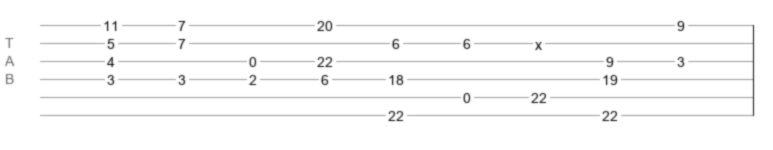0: (249, 54, 257, 64), (463, 90, 471, 100)
11: (103, 18, 119, 28)
18: (388, 72, 404, 82)
19: (602, 72, 618, 82)
2: (249, 72, 257, 82)
20: (317, 18, 333, 28)
22: (317, 54, 333, 64), (388, 108, 404, 118), (531, 90, 547, 100), (602, 108, 618, 118)
3: (107, 72, 115, 82), (178, 72, 186, 82), (677, 54, 685, 64)
4: (107, 54, 115, 64)
5: (107, 36, 115, 46)
6: (321, 72, 329, 82), (392, 36, 400, 46), (463, 36, 471, 46)
7: (178, 18, 186, 28), (178, 36, 186, 46)
9: (606, 54, 614, 64), (677, 18, 685, 28)
x: (535, 37, 542, 45)
